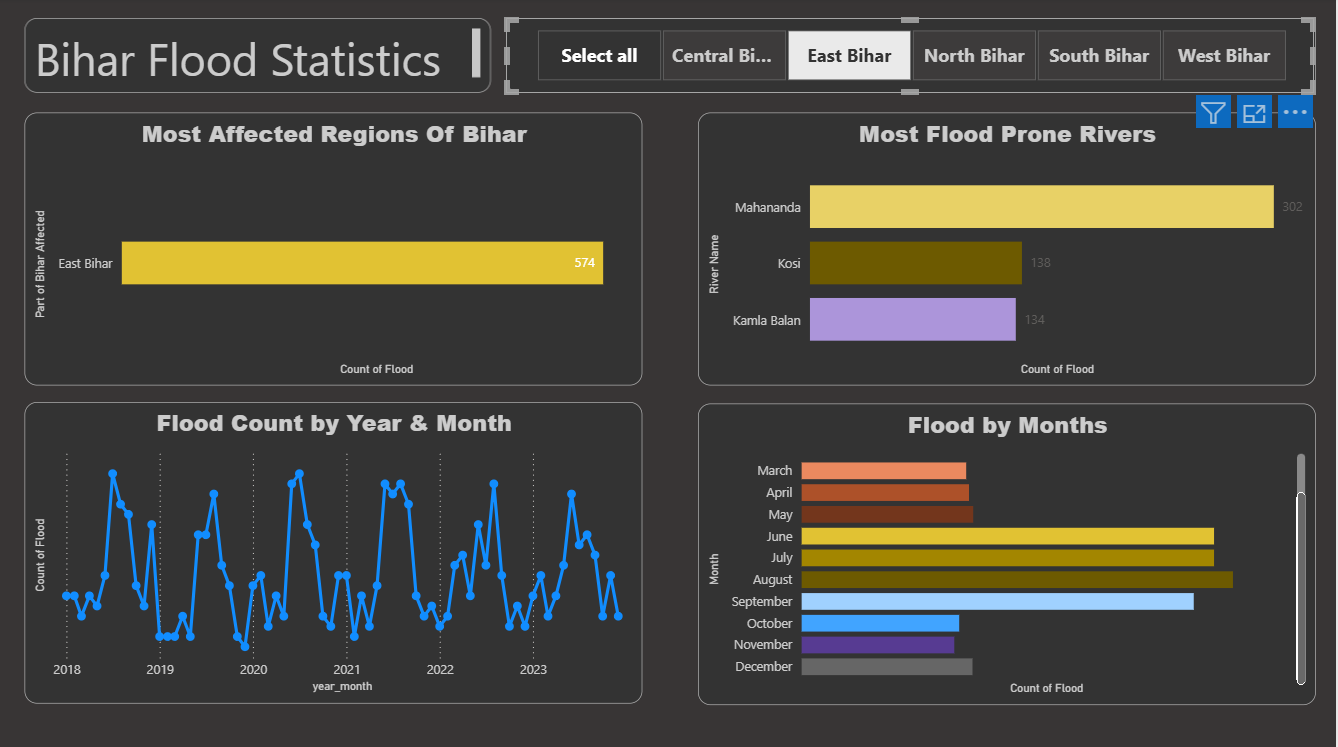

The dashboard page shown, as its layout file describes it:
{"tool":"powerbi","page":{"name":"Page 1","canvas":[1280,720],"ordinal":0},"visuals":[{"type":"clusteredBarChart","title":"Most Affected Regions Of Bihar","fields":{"Category":["bihar_river_flood_data_with_region_year_month.Part of Bihar Affected"],"Y":["CountNonNull(bihar_river_flood_data_with_region_year_month.Flood)"]},"box":[27,109.8,590.1,260.9],"z":0},{"type":"clusteredBarChart","title":"Most Flood Prone Rivers","fields":{"Category":["bihar_river_flood_data_with_region_year_month.River Name"],"Y":["CountNonNull(bihar_river_flood_data_with_region_year_month.Flood)"]},"box":[669.6,109.8,590.1,260.9],"z":1000},{"type":"lineChart","title":"Flood Count by Year & Month","fields":{"Y":["CountNonNull(bihar_river_flood_data_with_region_year_month.Flood)"],"Category":["bihar_river_flood_data_with_region_year_month.year_month"]},"box":[27,386.5,590.1,287.9],"z":2000},{"type":"slicer","fields":{"Values":["bihar_river_flood_data_with_region_year_month.Part of Bihar Affected"]},"box":[486.7,20.7,773,71.6],"z":3000},{"type":"textbox","box":[27,20.7,445.4,71.6],"z":4000},{"type":"clusteredBarChart","title":"Flood by Months","fields":{"Category":["year_month.year_month.Variation.Date Hierarchy.Month"],"Y":["CountNonNull(year_month.Flood)"]},"box":[669.6,388.1,590.1,287.9],"z":4001}]}

Visuals, with their boxes in screenshot pixels (x1, y1, x2, y2), scaled from the page's 1280x720 canvas onto the 1338x747 screenshot:
"Most Affected Regions Of Bihar" clusteredBarChart: 28/114/645/385
"Most Flood Prone Rivers" clusteredBarChart: 700/114/1317/385
"Flood Count by Year & Month" lineChart: 28/401/645/700
slicer - bihar_river_flood_data_with_region_year_month.Part of Bihar Affected: 509/21/1317/96
textbox: 28/21/494/96
"Flood by Months" clusteredBarChart: 700/403/1317/701
